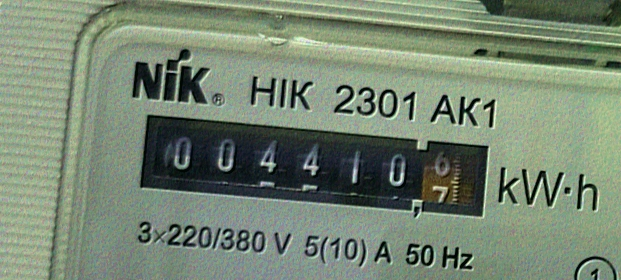0: (169, 133, 193, 173), (385, 152, 408, 189), (214, 135, 235, 175)
1: (346, 148, 362, 186)
4: (298, 140, 323, 180), (256, 135, 280, 175)
6: (433, 151, 452, 178)
7: (428, 184, 449, 204)
screen: (127, 102, 501, 231)
